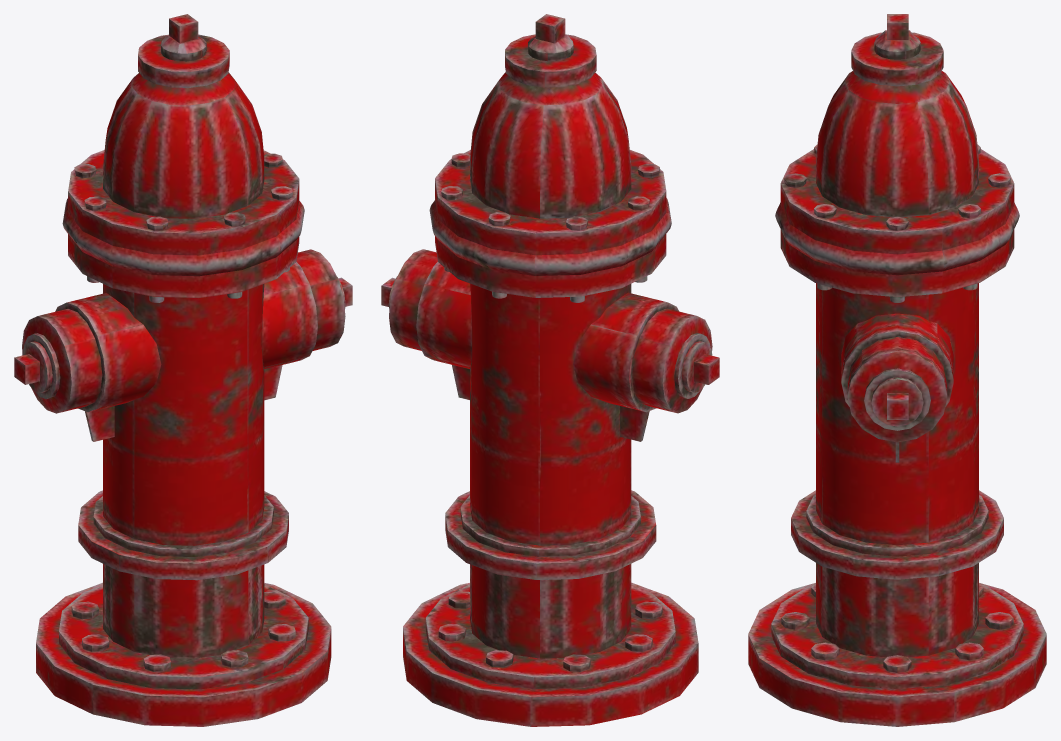
The model's file is p_fire_hydrant.glb.
The picture shows the model from 3 angles, left to right: view 1: azimuth 30°, elevation 25°; view 2: azimuth 150°, elevation 25°; view 3: azimuth 270°, elevation 25°; orthographic projection.
Visible parts, largest first — view 1: Cylinder.003; view 2: Cylinder.003; view 3: Cylinder.003.
Part boxes in pixels (left/top/right/bottom): Cylinder.003: left=14, top=14, right=352, bottom=726; Cylinder.003: left=381, top=14, right=719, bottom=726; Cylinder.003: left=748, top=14, right=1046, bottom=726.
Bounding box in the file's own units: 1.06 × 2 × 0.8387.
Materials: 1 (1 with a texture image).
